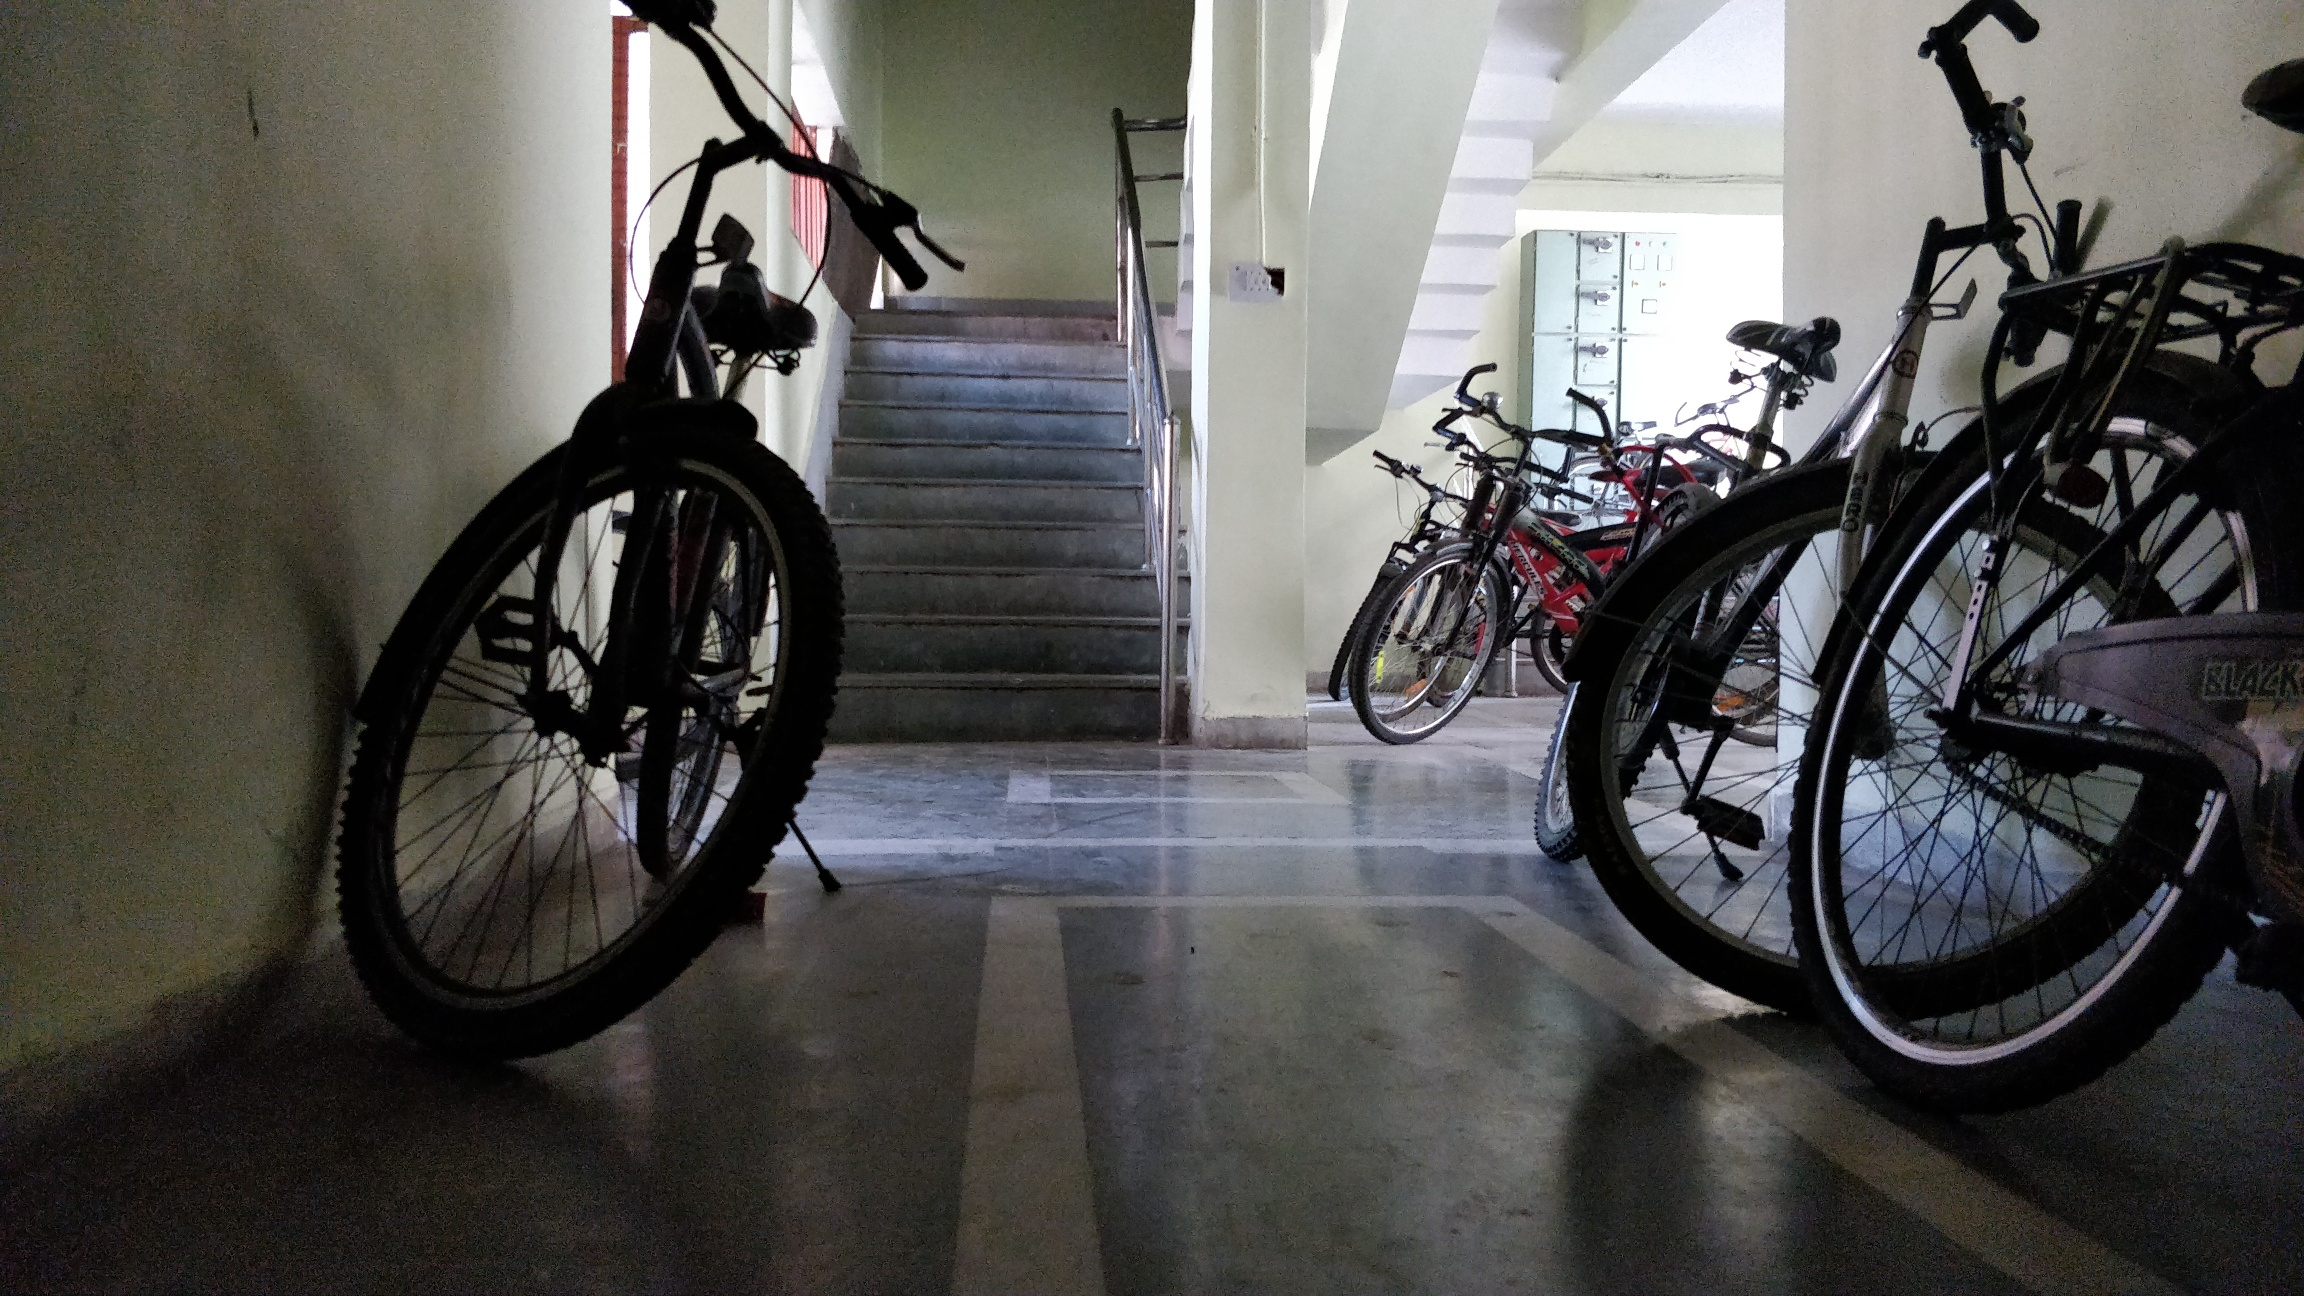stairs_up: (804, 280, 1190, 722)
